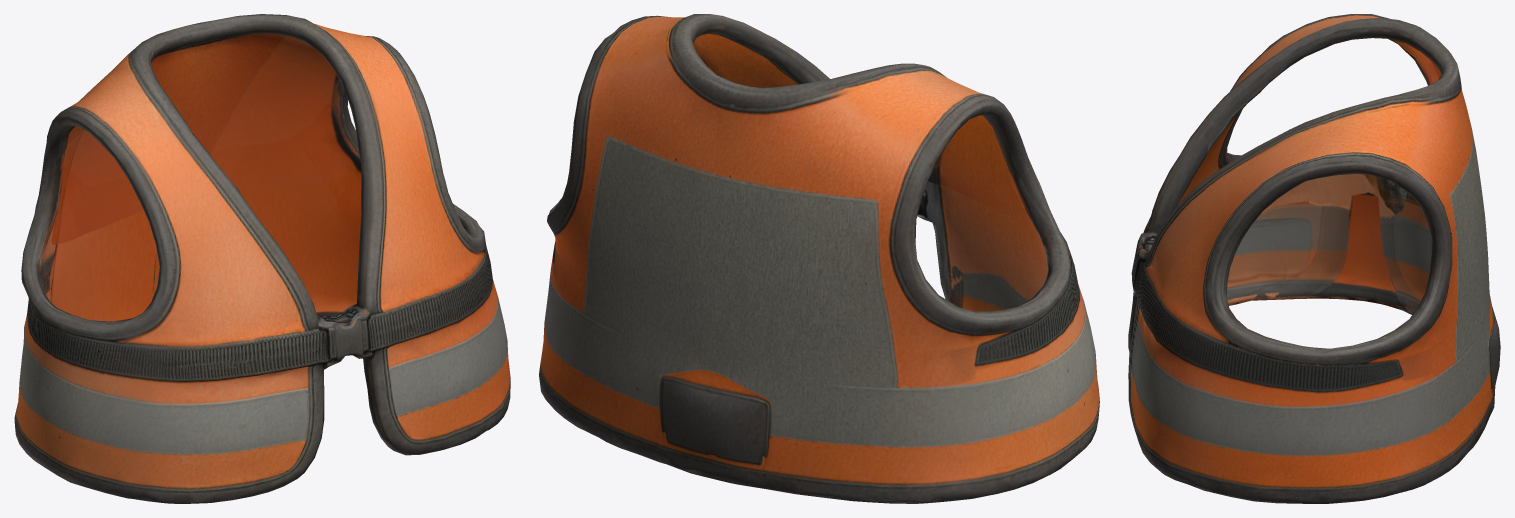
File: crab_vest.glb
3 renders of one model, left to right at view 1: azimuth 30°, elevation 25°; view 2: azimuth 150°, elevation 25°; view 3: azimuth 270°, elevation 25°, orthographic. The views are drawn at different scales.
Visible parts, largest first — view 1: texture_mapping; view 2: texture_mapping; view 3: texture_mapping.
Boxes of the visible parts, box(x1,y1,x2,y2) form: texture_mapping: box(14, 14, 510, 503); texture_mapping: box(539, 14, 1099, 503); texture_mapping: box(1128, 14, 1500, 503).
Size of the model in its own units: 1 by 0.7396 by 0.7323.
1 material, 1 textured.
